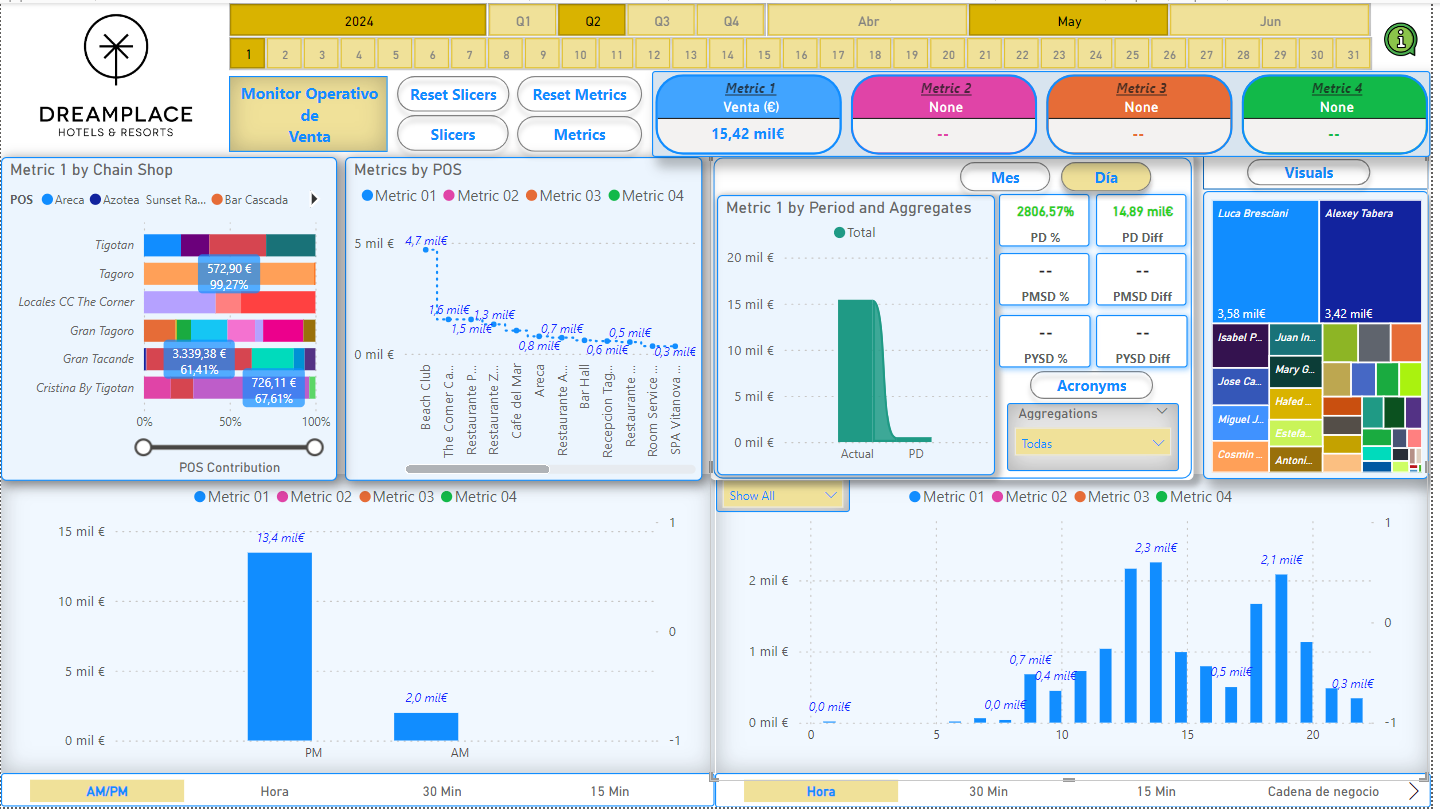

This screenshot's page, from the dashboard's own definition file:
{"tool":"powerbi","page":{"name":"Overview 001.14.01BL","canvas":[1280,720],"ordinal":5},"visuals":[{"type":"actionButton","title":"Button Month Selected","box":[850.2,133.3,98.8,44.2],"z":0,"group":"g12"},{"type":"shape","title":"Period Analysis Background","box":[634.9,135.3,432.5,291.7],"z":0,"group":"g11"},{"type":"group","id":"g1","title":"Visuals","box":[1076.7,168.6,203,259.4],"z":0,"group":"g6"},{"type":"card","title":"PMSD Diff","fields":{"Values":["cg_Metric01.- Metric 01"]},"box":[981.1,223.8,81.5,47.5],"z":0,"group":"g17"},{"type":"group","id":"g2","title":"Bottom Charts","box":[0,421,1279.7,299],"z":0},{"type":"group","id":"g3","title":"Bottom Right Chart","box":[639.1,422,640.7,298],"z":0,"group":"g2"},{"type":"lineClusteredColumnComboChart","title":"Chart Metrics by Custom Dimensions","fields":{"Category":["Tiempo.AM PM"],"Y":["cg_Metric01.- Metric 01","cg_Metric02.- Metric 02"],"Y2":["cg_Metric03.- Metric 03","cg_Metric04.- Metric 04"]},"box":[640,422,639.5,268],"z":0,"group":"g3"},{"type":"advancedSlicerVisual","fields":{"Values":["Calendario.Mes"]},"box":[686,0,541,30],"z":1000,"group":"g18"},{"type":"group","id":"g4","title":"Buttons","box":[345.8,56,118.7,85.8],"z":1000,"group":"g16"},{"type":"group","id":"g5","title":"Buttons","box":[452.8,56,130.2,85.6],"z":1000,"group":"g15"},{"type":"actionButton","title":"Button Slicers Menu Unselected","box":[346,91.3,118,50.1],"z":1000,"group":"g4"},{"type":"actionButton","title":"Button Metrics Menu Unselected","box":[453,91.6,130,50],"z":1000,"group":"g5"},{"type":"group","id":"g6","title":"Overlayed Visuals Menu","box":[1076.7,131,203,297],"z":1000},{"type":"group","id":"g7","title":"Buttons Period Analysis Quarter","box":[758,133.3,99,44.2],"z":1000,"group":"g19"},{"type":"actionButton","title":"Button Cuarto Unselected","box":[758,133.3,98.8,44.2],"z":1000,"group":"g7"},{"type":"actionButton","title":"Button Day Unselected","box":[941,133.3,98.8,44.2],"z":1000,"group":"g14"},{"type":"shape","title":"Background Menu Button","box":[1076.7,135.6,202,32],"z":1000,"group":"g6"},{"type":"treemap","title":"Metric 1 by Vendedor","fields":{"Values":["cg_Metric01.Metric 01"],"Group":["Venta.Vendedor"]},"box":[1076.7,168.6,202,258],"z":1000,"group":"g1"},{"type":"card","title":"PMSD %","fields":{"Values":["cg_Metric01.- Metric 01"]},"box":[894.1,223.8,81.5,47.5],"z":1000,"group":"g17"},{"type":"group","id":"g8","title":"Buttons Acronyms Dictionary","box":[912.8,320.6,128.1,43],"z":1000,"group":"g13"},{"type":"actionButton","title":"Button Acronyms Dictionary Unselected","box":[912.8,320.6,128.1,43],"z":1000,"group":"g8"},{"type":"slicer","title":"Slicer Agregates","fields":{"Values":["cg_KPIs.KPIs"]},"box":[900.7,357.6,153.8,60.7],"z":1000,"group":"g11"},{"type":"group","id":"g9","title":"Bottom Left Chart","box":[0,422,639.3,298],"z":1000,"group":"g2"},{"type":"lineClusteredColumnComboChart","title":"Chart Metrics by Hierarchy Calendar & Time","fields":{"Category":["Calendario.Fecha"],"Y2":["cg_Metric03.- Metric 03","cg_Metric04.- Metric 04"],"Y":["cg_Metric01.Metric 01","cg_Metric02.Metric 02"]},"box":[0,422,639,268],"z":1000,"group":"g9"},{"type":"advancedSlicerVisual","title":"Slicer Custom Dimensions","fields":{"Values":["Slicer X & Y.Selection"]},"box":[639.1,689.3,640.7,30.7],"z":1000,"group":"g3"},{"type":"advancedSlicerVisual","title":"Cuarto","fields":{"Values":["Calendario.Cuarto"]},"box":[436.1,0,248.9,30],"z":1500,"group":"g18"},{"type":"advancedSlicerVisual","title":"Slicer Hierarchy Calendar & Time","fields":{"Values":["Slicer X & Y.Selection"]},"box":[0,690,639.3,30],"z":1500,"group":"g9"},{"type":"advancedSlicerVisual","fields":{"Values":["Calendario.Año"]},"box":[204,0,231,30],"z":2000,"group":"g18"},{"type":"actionButton","title":"Button Clear all Slicers","box":[345.9,56,118.6,49.8],"z":2000,"group":"g4"},{"type":"actionButton","title":"Button Clear all Metrics","box":[453,56,130,50],"z":2000,"group":"g5"},{"type":"group","id":"g10","title":"Buttons Overlayed Visuals Menu","box":[1105,131,141.8,118.1],"z":2000,"group":"g6"},{"type":"group","id":"g11","title":"Period Analysis","box":[634.9,133.3,642.6,563.7],"z":2000},{"type":"group","id":"g12","title":"Buttons Period Analysis Month","box":[850,133.3,99,44.2],"z":2000,"group":"g19"},{"type":"card","title":"PD Diff","fields":{"Values":["cg_Metric01.- Metric 01"]},"box":[981.1,170.8,81.5,46.6],"z":2000,"group":"g17"},{"type":"group","id":"g13","title":"Acronyms","box":[894.7,320.6,382.9,376.4],"z":2000,"group":"g11"},{"type":"group","id":"g14","title":"Buttons Period Analysis Day","box":[941,133.3,98.8,44.2],"z":3000,"group":"g19"},{"type":"lineChart","title":"Metrics by POS","fields":{"Category":["POS.POS"],"Y":["cg_Metric01.Metric 01","cg_Metric02.Metric 02","cg_Metric03.Metric 03","cg_Metric04.Metric 04"]},"box":[308.2,138,320,290],"z":3000},{"type":"card","title":"PD %","fields":{"Values":["cg_Metric01.- Metric 01"]},"box":[894.1,170.8,81.5,47.5],"z":3000,"group":"g17"},{"type":"ribbonChart","title":"Metric 1 by Period and Aggregates","fields":{"Category":["cg_TimeIntelligence.Period"],"Y":["cg_Metric01.- Metric 01"],"Series":["cg_Aggregates.Aggregates"]},"box":[640.7,171.5,248.7,251.2],"z":3000,"group":"g11"},{"type":"slicer","title":"Slicer Metrics Labels","fields":{"Values":["Toggle Chart Labels.Options"]},"box":[640,421,120,35],"z":3000,"group":"g2"},{"type":"actionButton","title":"Button Overlayed Visuals Menu Unselected","box":[1106.8,131,128.4,41.5],"z":4000,"group":"g10"},{"type":"hundredPercentStackedBarChart","title":"Metric 1 by Chain Shop","fields":{"Category":["POS.Cadena de negocio"],"Y":["cg_Metric01.Metric 01"],"Series":["POS.POS"]},"box":[0,137.6,300.6,290.3],"z":4000},{"type":"group","id":"g15","title":"Metrics Menu","box":[452.8,56,826.9,267.4],"z":5000},{"type":"group","id":"g16","title":"Slicers Menu","box":[345,56,230,350.3],"z":6000},{"type":"group","id":"g17","title":"Group Cards Period Analysis Month","box":[894.1,170.8,168.5,100.5],"z":6000,"group":"g11"},{"type":"cardVisual","title":"Card Metrics","fields":{"Data":["cg_LablesFromSlicers.Metric 1","cg_LablesFromSlicers.Measure 02","cg_LablesFromSlicers.Measure 03","cg_LablesFromSlicers.Measure 04"]},"box":[582.6,60.7,697.2,76.7],"z":7000},{"type":"group","id":"g18","title":"Period Selection","box":[204,0,1023.5,59.9],"z":8000},{"type":"group","id":"g19","title":"Analysis Type Menu","box":[663,133.3,376.8,44.2],"z":8500,"group":"g11"},{"type":"image","title":"Info Button","box":[1229.7,12.3,47.2,40],"z":9000},{"type":"textbox","title":"Page Title","box":[204,65,142,68],"z":10000},{"type":"image","title":"DP Logo","box":[16.3,0,173.5,129.1],"z":11000}]}

Visuals, with their boxes in screenshot pixels (x1, y1, x2, y2), scaled from the page's 1280x720 canvas onto the 1440x810 screenshot:
"Button Month Selected" actionButton: [x1=956, y1=150, x2=1068, y2=200]
"Period Analysis Background" shape: [x1=714, y1=152, x2=1201, y2=480]
"Visuals" group: [x1=1211, y1=190, x2=1439, y2=482]
"PMSD Diff" card: [x1=1104, y1=252, x2=1195, y2=305]
"Bottom Charts" group: [x1=0, y1=474, x2=1439, y2=809]
"Bottom Right Chart" group: [x1=719, y1=475, x2=1439, y2=809]
"Chart Metrics by Custom Dimensions" lineClusteredColumnComboChart: [x1=720, y1=475, x2=1439, y2=776]
advancedSlicerVisual - Calendario.Mes: [x1=772, y1=0, x2=1380, y2=34]
"Buttons" group: [x1=389, y1=63, x2=523, y2=160]
"Buttons" group: [x1=509, y1=63, x2=656, y2=159]
"Button Slicers Menu Unselected" actionButton: [x1=389, y1=103, x2=522, y2=159]
"Button Metrics Menu Unselected" actionButton: [x1=510, y1=103, x2=656, y2=159]
"Overlayed Visuals Menu" group: [x1=1211, y1=147, x2=1439, y2=482]
"Buttons Period Analysis Quarter" group: [x1=853, y1=150, x2=964, y2=200]
"Button Cuarto Unselected" actionButton: [x1=853, y1=150, x2=964, y2=200]
"Button Day Unselected" actionButton: [x1=1059, y1=150, x2=1170, y2=200]
"Background Menu Button" shape: [x1=1211, y1=153, x2=1439, y2=189]
"Metric 1 by Vendedor" treemap: [x1=1211, y1=190, x2=1439, y2=480]
"PMSD %" card: [x1=1006, y1=252, x2=1098, y2=305]
"Buttons Acronyms Dictionary" group: [x1=1027, y1=361, x2=1171, y2=409]
"Button Acronyms Dictionary Unselected" actionButton: [x1=1027, y1=361, x2=1171, y2=409]
"Slicer Agregates" slicer: [x1=1013, y1=402, x2=1186, y2=471]
"Bottom Left Chart" group: [x1=0, y1=475, x2=719, y2=809]
"Chart Metrics by Hierarchy Calendar & Time" lineClusteredColumnComboChart: [x1=0, y1=475, x2=719, y2=776]
"Slicer Custom Dimensions" advancedSlicerVisual: [x1=719, y1=775, x2=1439, y2=809]
"Cuarto" advancedSlicerVisual: [x1=491, y1=0, x2=771, y2=34]
"Slicer Hierarchy Calendar & Time" advancedSlicerVisual: [x1=0, y1=776, x2=719, y2=809]
advancedSlicerVisual - Calendario.Año: [x1=230, y1=0, x2=489, y2=34]
"Button Clear all Slicers" actionButton: [x1=389, y1=63, x2=523, y2=119]
"Button Clear all Metrics" actionButton: [x1=510, y1=63, x2=656, y2=119]
"Buttons Overlayed Visuals Menu" group: [x1=1243, y1=147, x2=1403, y2=280]
"Period Analysis" group: [x1=714, y1=150, x2=1437, y2=784]
"Buttons Period Analysis Month" group: [x1=956, y1=150, x2=1068, y2=200]
"PD Diff" card: [x1=1104, y1=192, x2=1195, y2=245]
"Acronyms" group: [x1=1007, y1=361, x2=1437, y2=784]
"Buttons Period Analysis Day" group: [x1=1059, y1=150, x2=1170, y2=200]
"Metrics by POS" lineChart: [x1=347, y1=155, x2=707, y2=482]
"PD %" card: [x1=1006, y1=192, x2=1098, y2=246]
"Metric 1 by Period and Aggregates" ribbonChart: [x1=721, y1=193, x2=1001, y2=476]
"Slicer Metrics Labels" slicer: [x1=720, y1=474, x2=855, y2=513]
"Button Overlayed Visuals Menu Unselected" actionButton: [x1=1245, y1=147, x2=1390, y2=194]
"Metric 1 by Chain Shop" hundredPercentStackedBarChart: [x1=0, y1=155, x2=338, y2=481]
"Metrics Menu" group: [x1=509, y1=63, x2=1439, y2=364]
"Slicers Menu" group: [x1=388, y1=63, x2=647, y2=457]
"Group Cards Period Analysis Month" group: [x1=1006, y1=192, x2=1195, y2=305]
"Card Metrics" cardVisual: [x1=655, y1=68, x2=1439, y2=155]
"Period Selection" group: [x1=230, y1=0, x2=1381, y2=67]
"Analysis Type Menu" group: [x1=746, y1=150, x2=1170, y2=200]
"Info Button" image: [x1=1383, y1=14, x2=1437, y2=59]
"Page Title" textbox: [x1=230, y1=73, x2=389, y2=150]
"DP Logo" image: [x1=18, y1=0, x2=214, y2=145]
